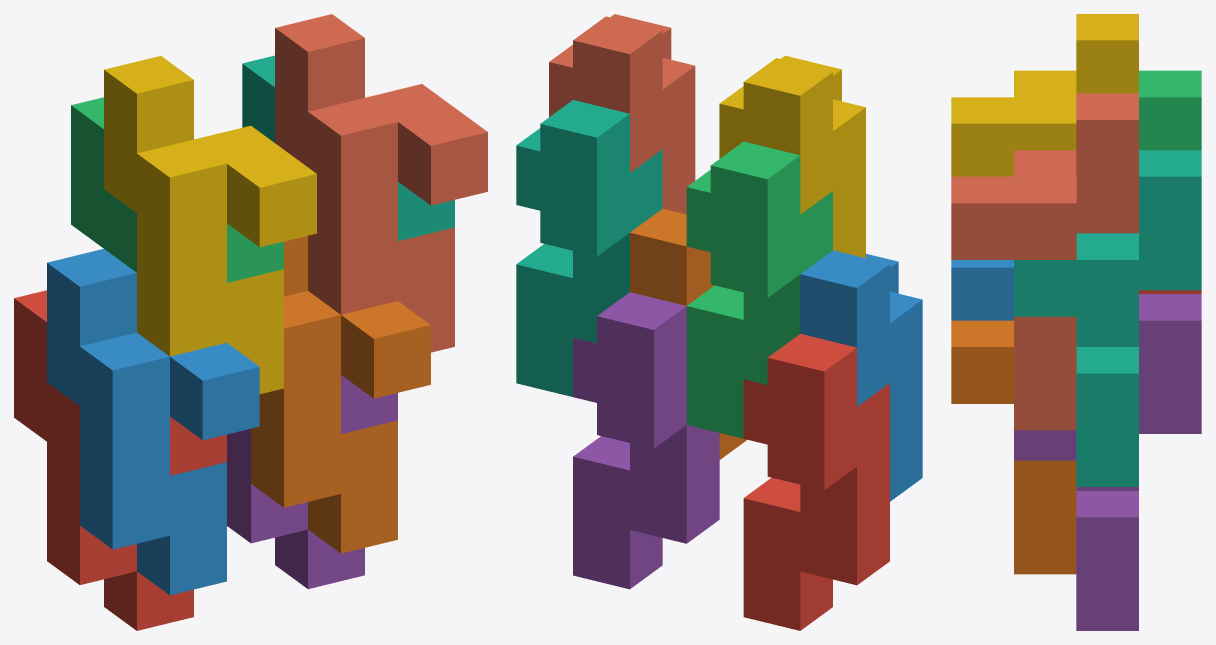
The model's file is tiling.obj.
3 renders of one model, left to right at view 1: azimuth 30°, elevation 25°; view 2: azimuth 150°, elevation 25°; view 3: azimuth 270°, elevation 25°, orthographic. The views are drawn at different scales.
Parts seen in each view (by area): view 1: copy_1_domain_2, copy_1_domain_4, copy_1_domain_8, copy_1_domain_6, copy_1_domain_1, copy_1_domain_5, copy_1_domain_3, copy_1_domain_7; view 2: copy_1_domain_1, copy_1_domain_5, copy_1_domain_3, copy_1_domain_7, copy_1_domain_4, copy_1_domain_2, copy_1_domain_8, copy_1_domain_6; view 3: copy_1_domain_7, copy_1_domain_8, copy_1_domain_5, copy_1_domain_4, copy_1_domain_6, copy_1_domain_3, copy_1_domain_2.
Part boxes in pixels (x1,y1,x2,y2): copy_1_domain_2: [47, 249, 259, 595]; copy_1_domain_4: [104, 56, 316, 394]; copy_1_domain_8: [275, 14, 487, 352]; copy_1_domain_6: [251, 235, 430, 553]; copy_1_domain_1: [14, 290, 226, 630]; copy_1_domain_5: [227, 375, 397, 588]; copy_1_domain_3: [71, 97, 283, 282]; copy_1_domain_7: [242, 55, 454, 240]; copy_1_domain_1: [743, 333, 889, 630]; copy_1_domain_5: [573, 292, 719, 589]; copy_1_domain_3: [686, 141, 832, 438]; copy_1_domain_7: [516, 100, 662, 396]; copy_1_domain_4: [719, 55, 865, 257]; copy_1_domain_2: [800, 250, 922, 501]; copy_1_domain_8: [549, 14, 695, 214]; copy_1_domain_6: [630, 208, 747, 459]; copy_1_domain_7: [1014, 150, 1201, 486]; copy_1_domain_8: [951, 93, 1138, 430]; copy_1_domain_5: [1014, 294, 1201, 630]; copy_1_domain_4: [951, 14, 1138, 176]; copy_1_domain_6: [951, 320, 1076, 574]; copy_1_domain_3: [1139, 70, 1201, 150]; copy_1_domain_2: [951, 260, 1013, 320].
Bounding box in the file's own units: 6 × 9 × 4.
